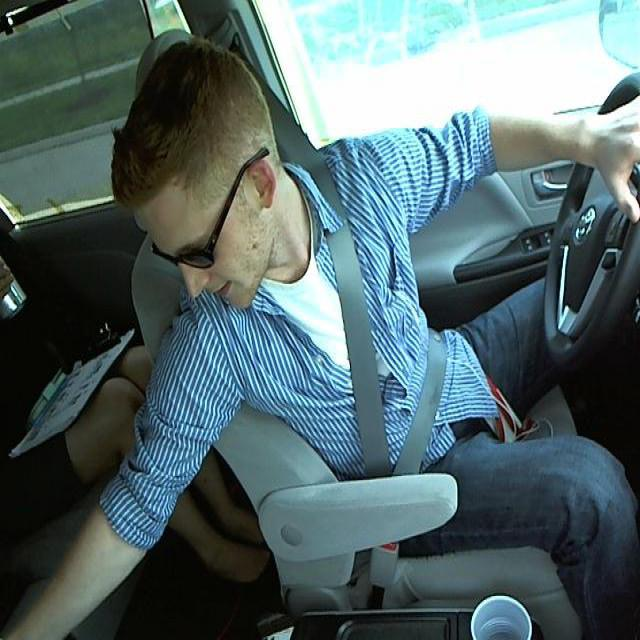seatbelt: (299, 170, 452, 473)
